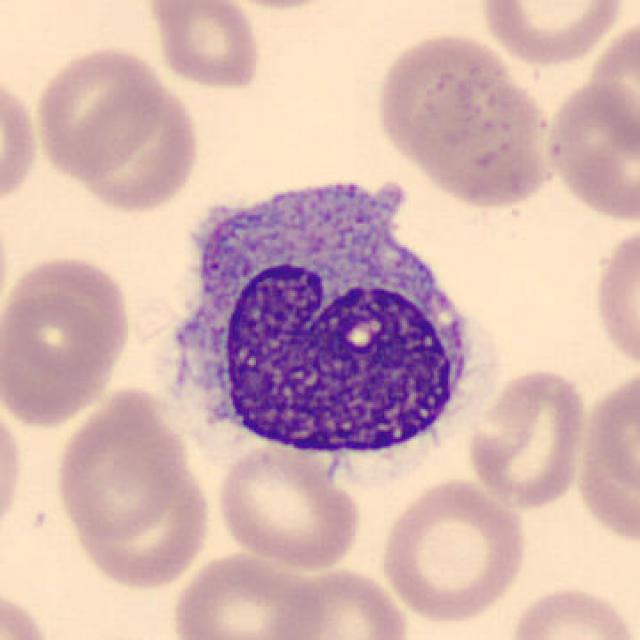Monocyte: (153, 159, 496, 481)
RBC: (372, 28, 560, 212), (375, 474, 532, 626), (60, 446, 217, 596), (50, 384, 190, 543), (212, 439, 364, 571), (30, 42, 169, 182), (464, 363, 590, 513), (71, 74, 203, 215), (0, 284, 126, 430), (542, 74, 638, 226), (169, 548, 327, 640), (576, 360, 638, 548), (268, 562, 411, 640), (144, 0, 265, 92), (474, 0, 628, 69), (588, 219, 640, 377), (503, 582, 637, 640), (0, 65, 41, 215), (0, 394, 28, 546), (0, 587, 57, 640), (206, 0, 352, 12)
